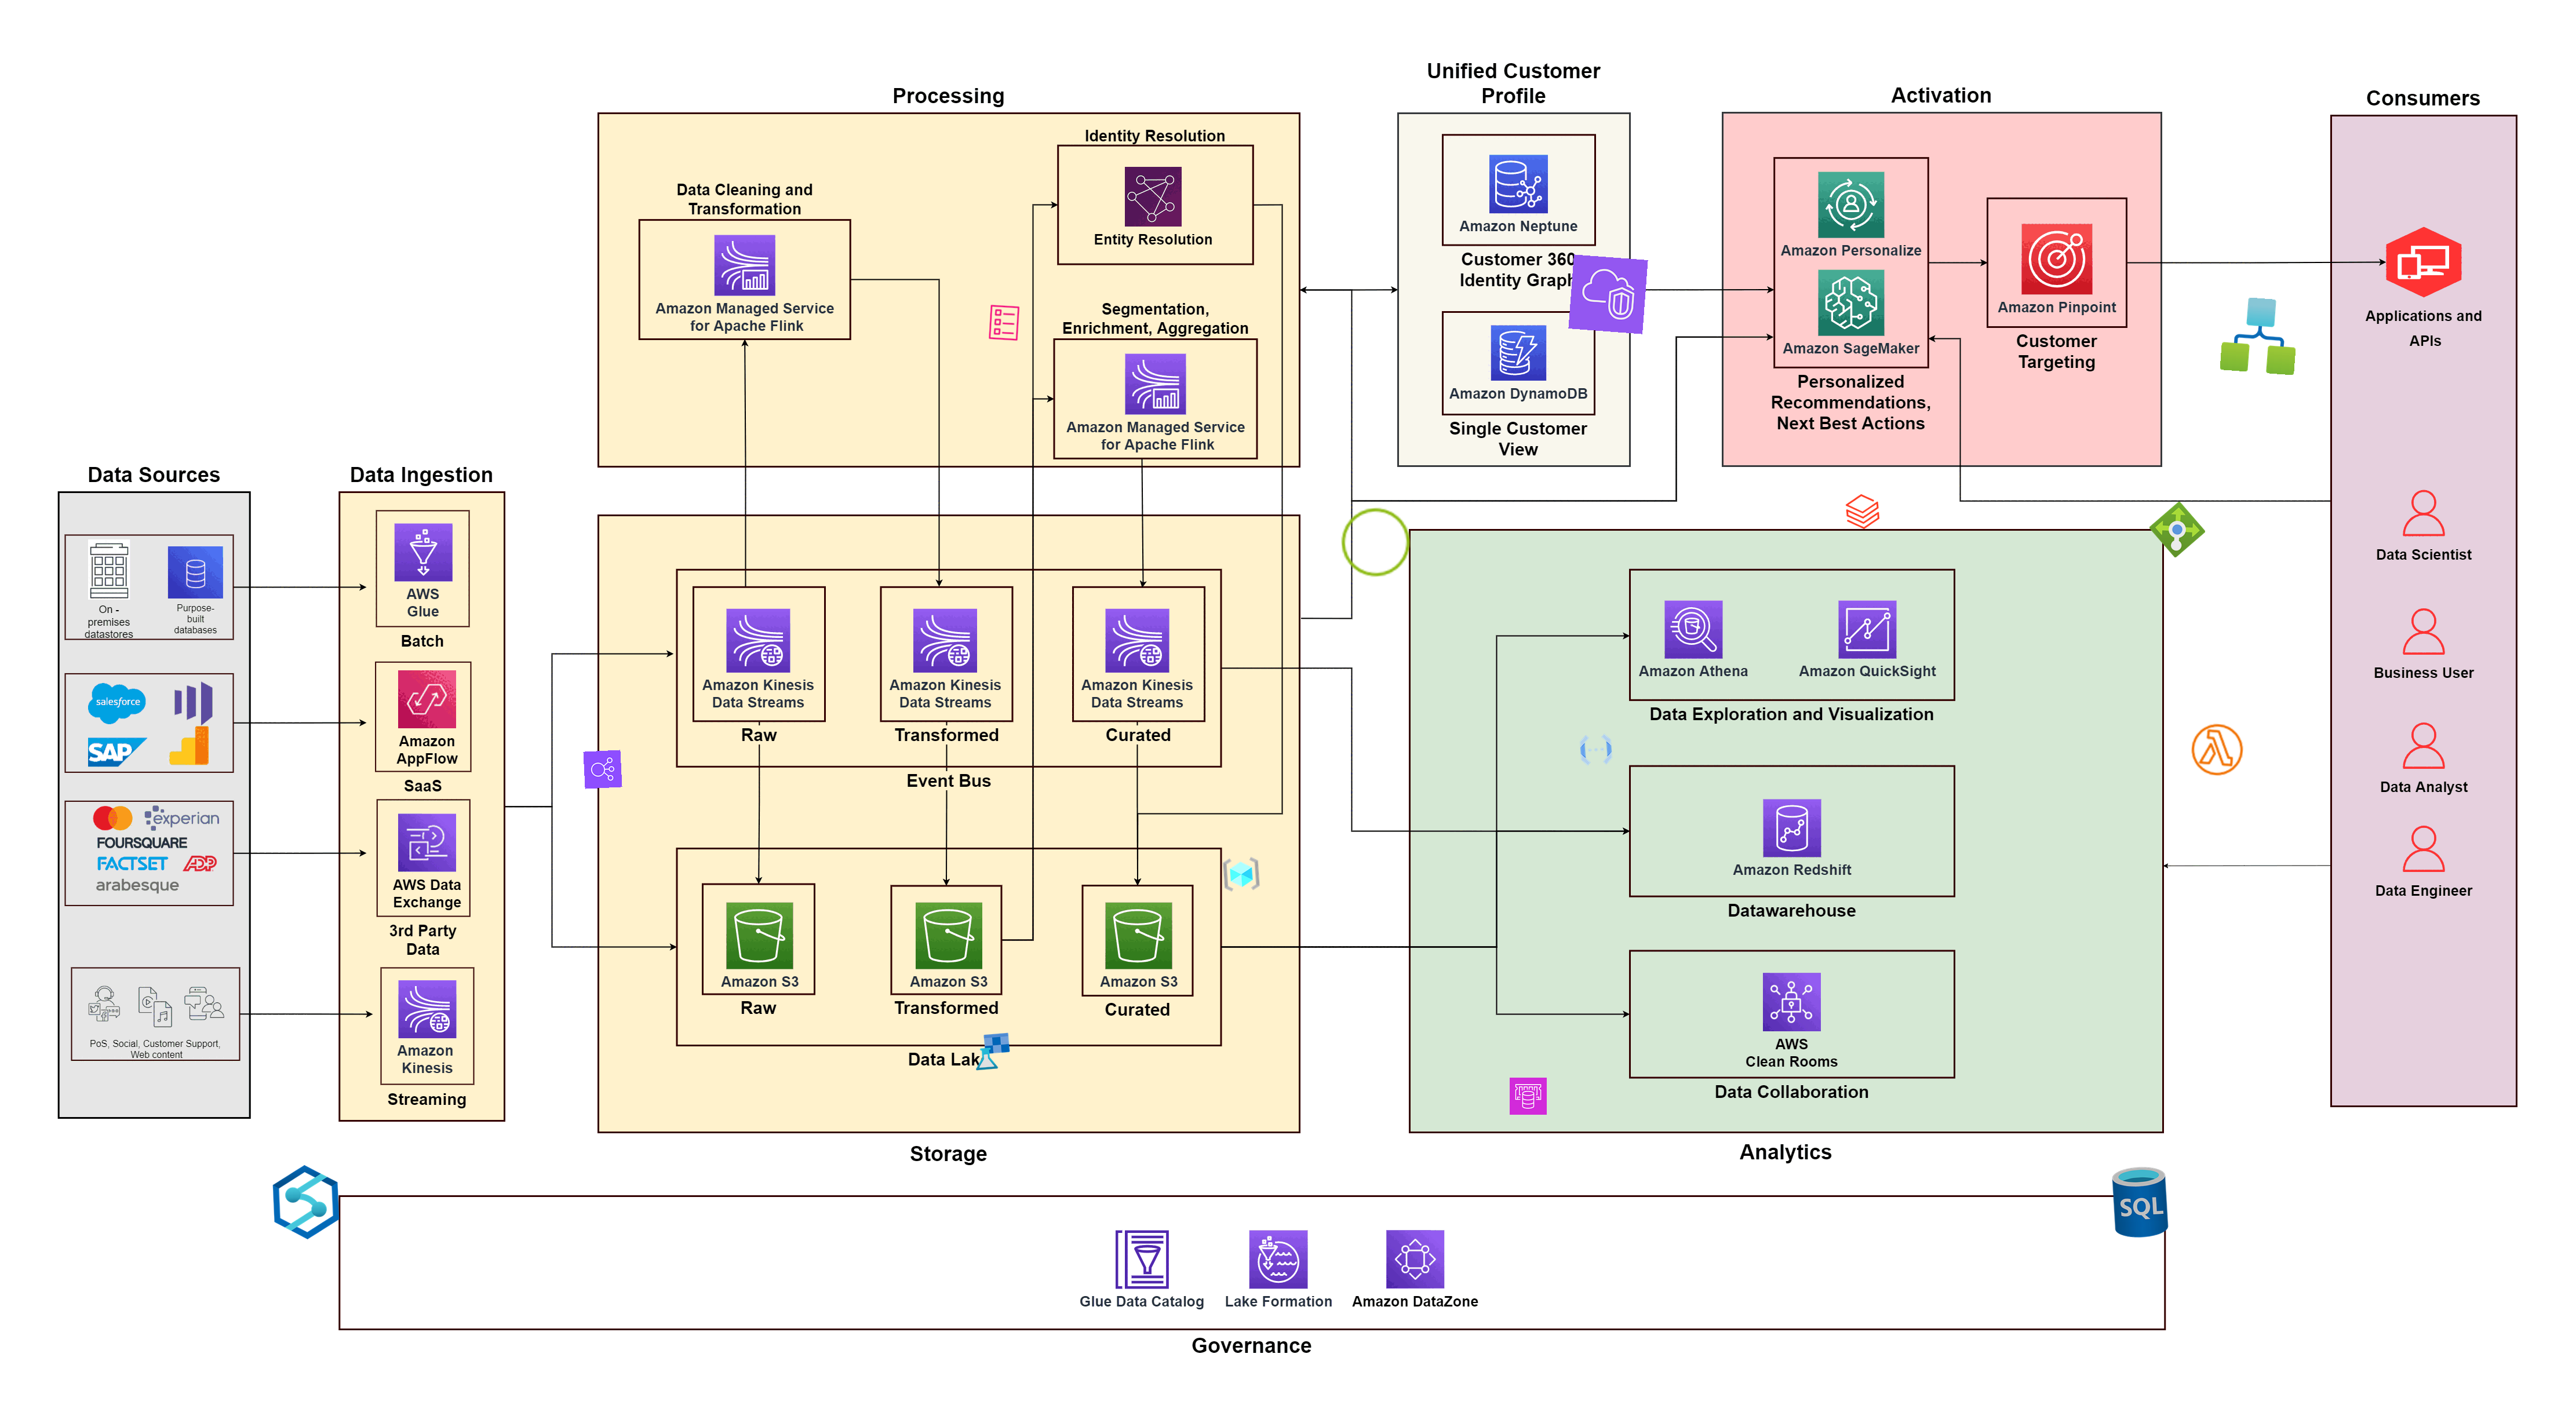aws_amazon_elasticache: (1509, 1078, 1547, 1116)
aws_amazon_virtual_private_cloud: (1568, 255, 1648, 335)
aws_cloudformation_template: (984, 303, 1024, 342)
aws_elastic_load_balancing: (583, 750, 623, 790)
aws_lambda_lambda_function: (2187, 720, 2248, 779)
aws_simple_storage_service_object: (1336, 502, 1416, 582)
azure_databricks: (1842, 492, 1884, 532)
azure_load_balancers: (2147, 499, 2208, 560)
azure_logic_apps: (2220, 295, 2300, 375)
azure_machine_learning_studio_workspaces: (971, 1031, 1012, 1072)
azure_resource_groups: (1221, 854, 1261, 895)
azure_sql_database: (2102, 1163, 2180, 1242)
azure_synapse_analytics: (267, 1163, 345, 1242)
gcp_cloud_functions: (1575, 729, 1617, 771)
